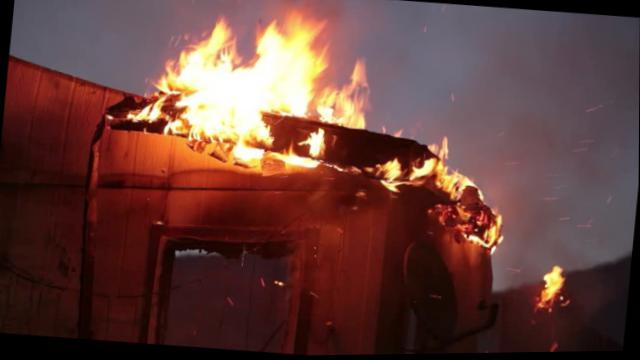fire: (87, 0, 552, 262), (512, 252, 583, 327)
